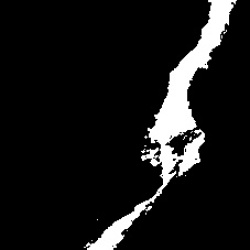crack: (82, 4, 236, 245)
